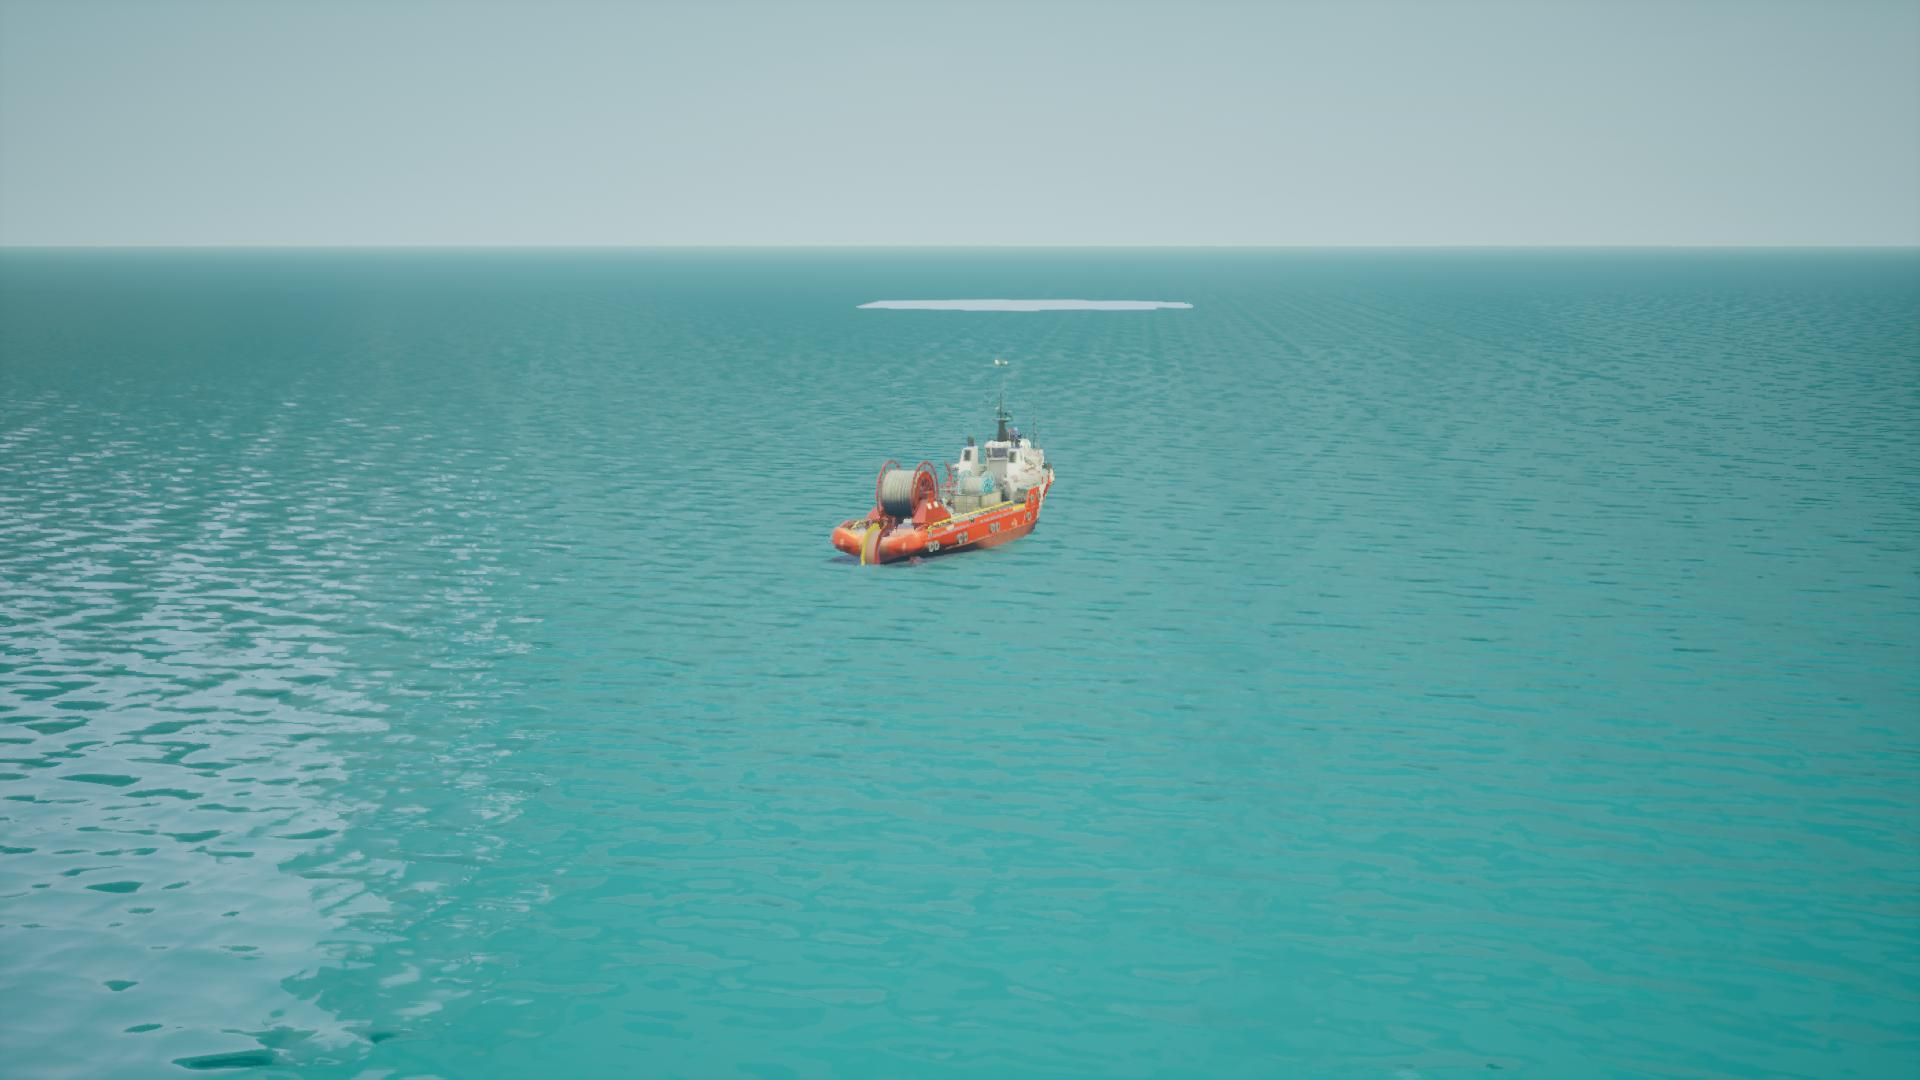Tug Boat: (829, 342, 1054, 574)
